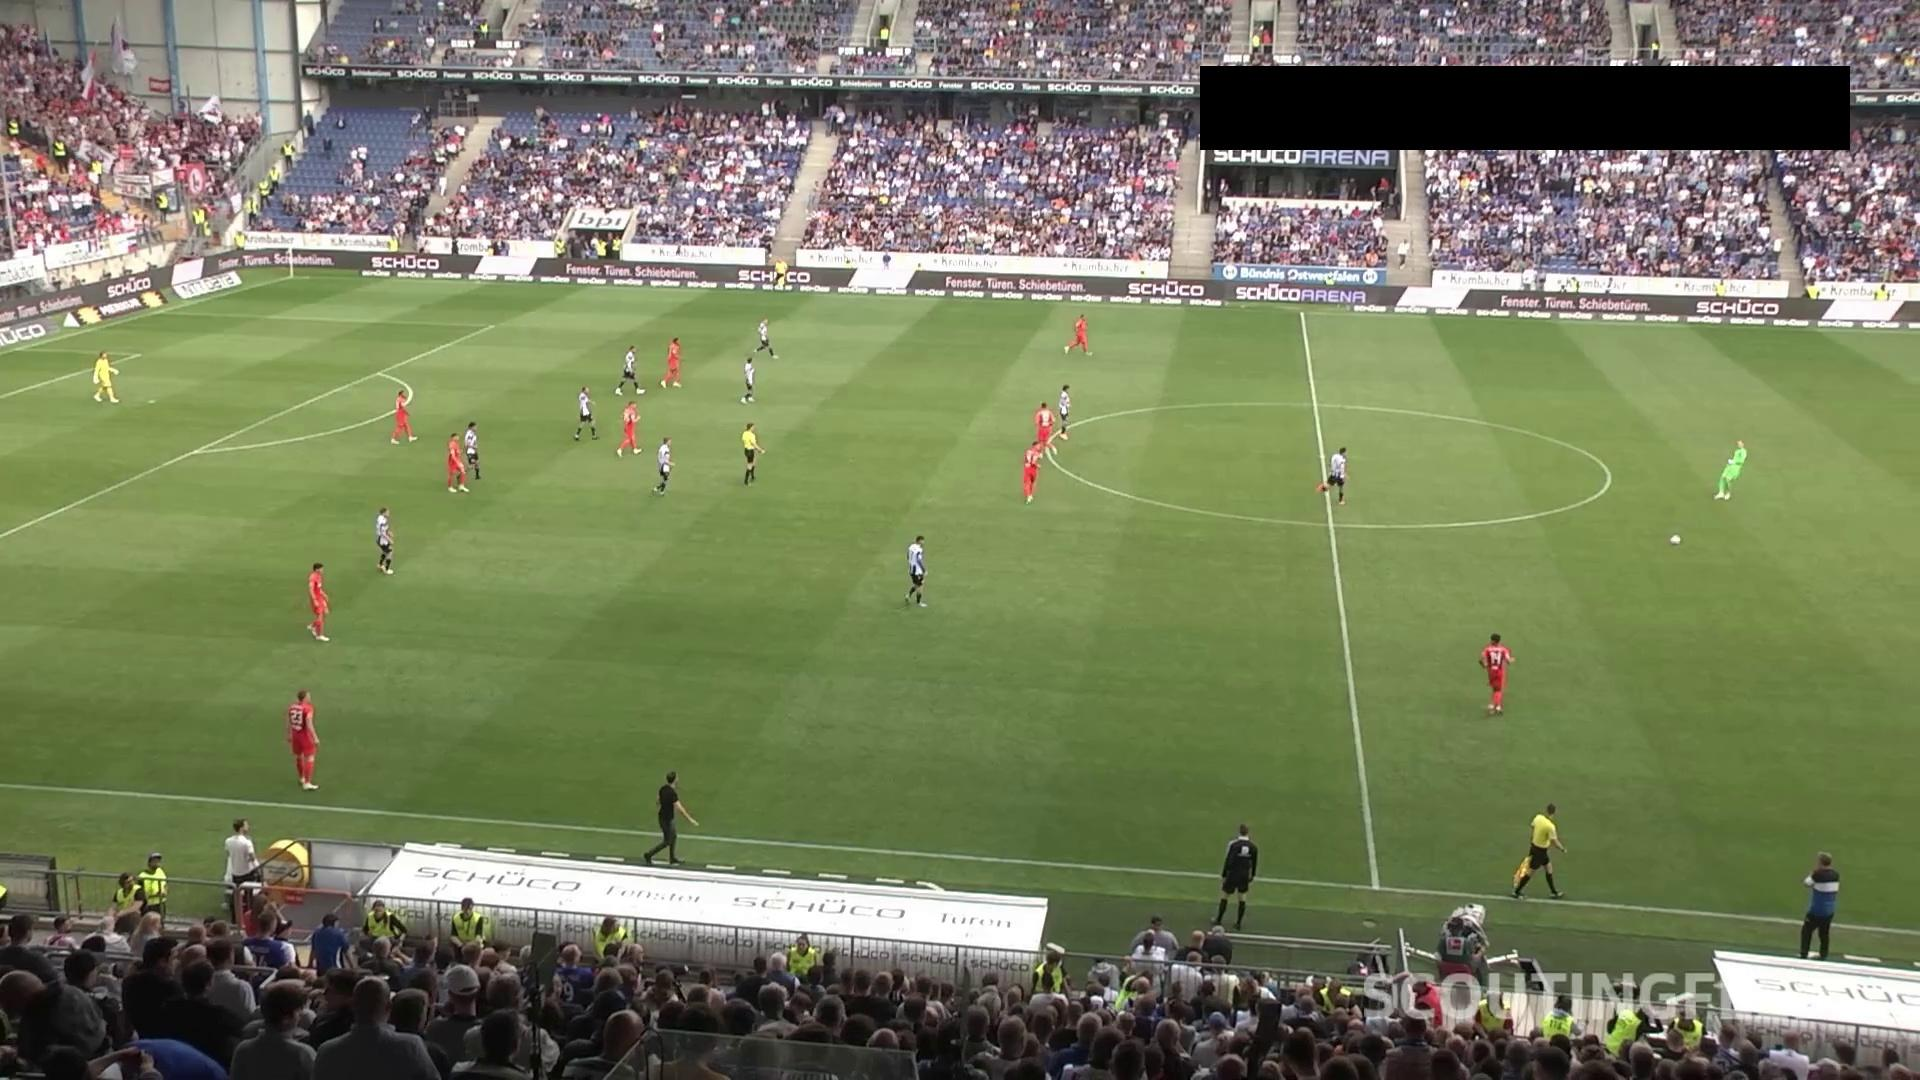Location-of-ball: (1665, 530, 1695, 555)
